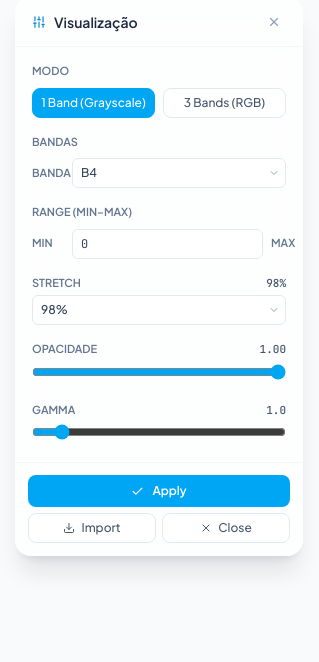
it: RasterVisPanel › shows three band selectors (R, G, B) in RGB mode
Note: Click "3 Bands (RGB)" button
Click the button "3 Bands (RGB)": (224, 102) [163, 88, 286, 118]
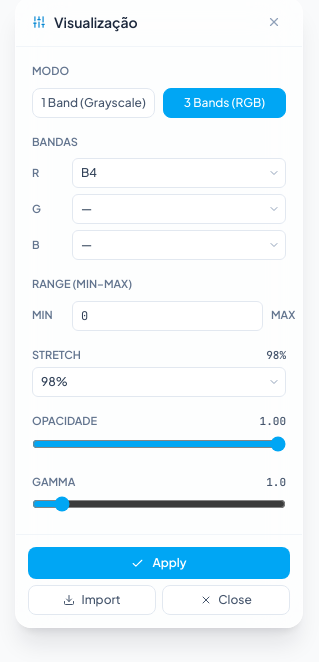
Expected: the text "R" is shown, [32, 166, 39, 179]
Expected: the number of dropdowns is 4, [72, 158, 286, 188]; [72, 194, 286, 224]; [72, 230, 286, 260]; [32, 367, 286, 397]
Expected: the text "G" is shown, [32, 202, 41, 215]
